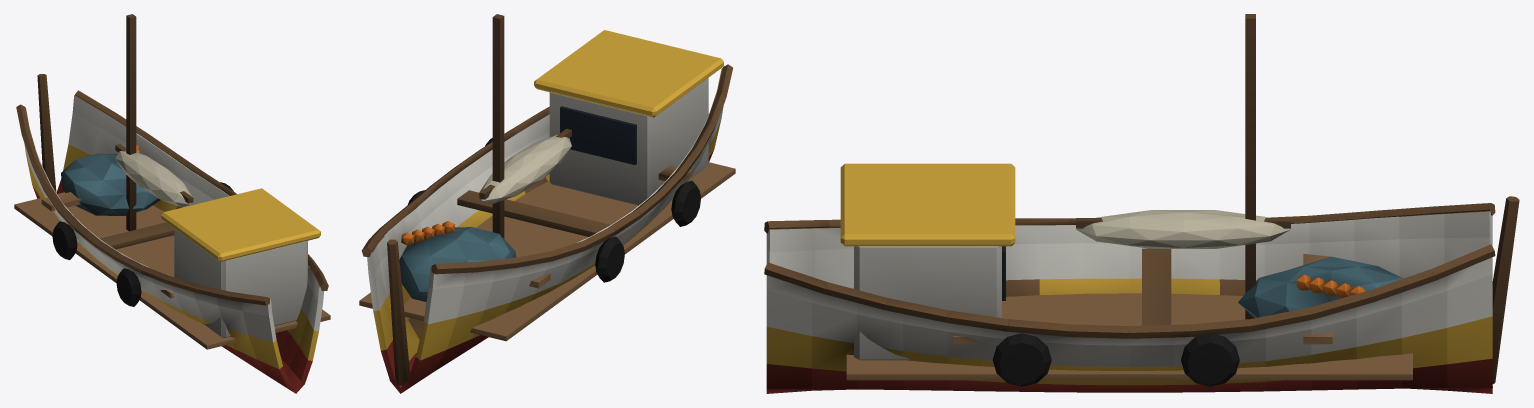
The model's file is boat_4.glb.
3 views of the same model, side by side, from view 1: azimuth 30°, elevation 25°; view 2: azimuth 150°, elevation 25°; view 3: azimuth 270°, elevation 25° (orthographic). The views are drawn at different scales.
Visible parts, largest first — view 1: hull; view 2: hull; view 3: hull.
Boxes of the visible parts, left/top/right/bottom form: hull: left=14, top=14, right=330, bottom=393; hull: left=359, top=14, right=735, bottom=393; hull: left=764, top=14, right=1519, bottom=393.
Size of the model in its own units: 2.14 by 3.1 by 5.62.
